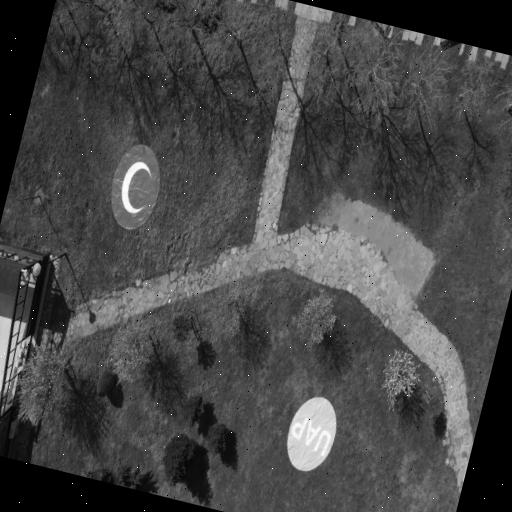UAP: (111, 145, 160, 230)
car: (287, 398, 336, 471)
